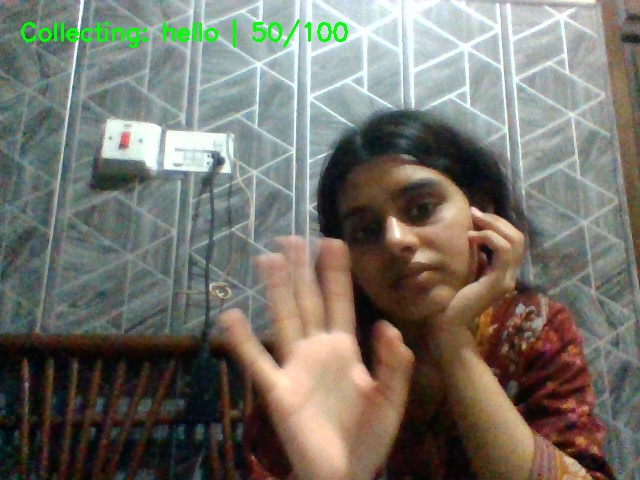hello: (206, 232, 416, 480)
